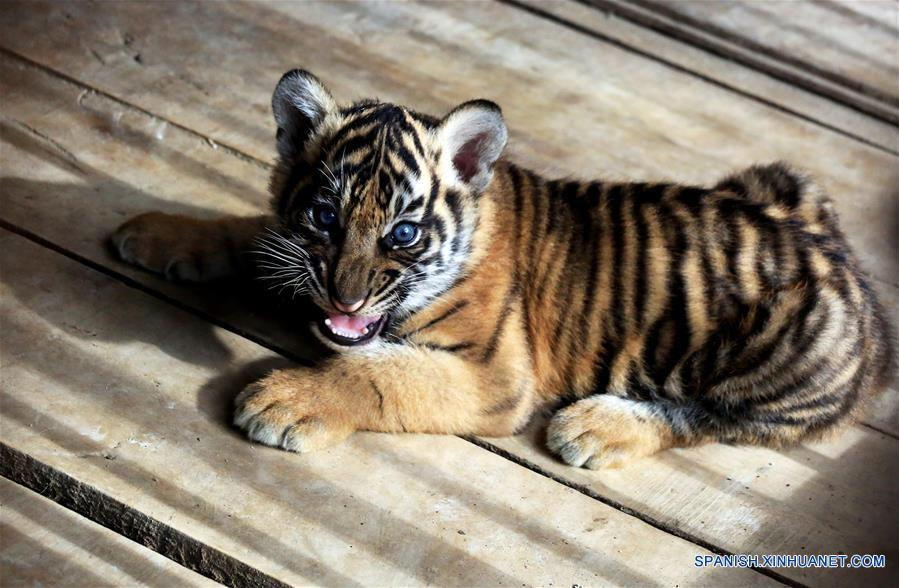Tigrew: (127, 50, 886, 510)
